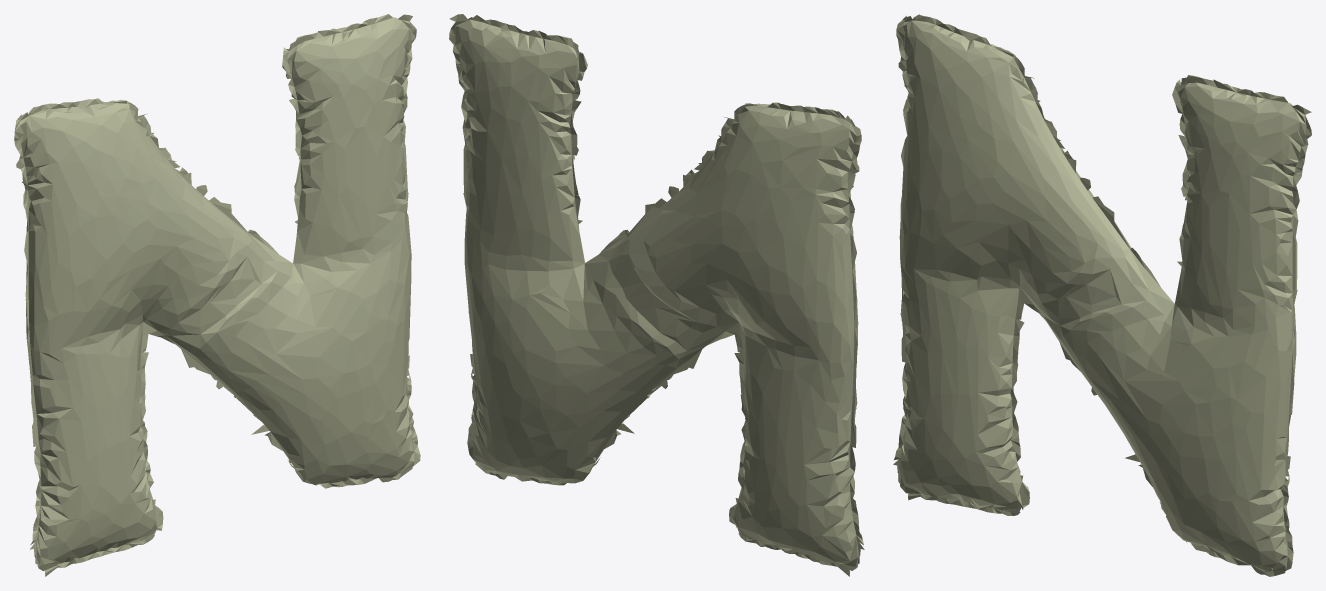
Rendered from tinker.obj.
The picture shows the model from 3 angles, left to right: view 1: azimuth 30°, elevation 25°; view 2: azimuth 150°, elevation 25°; view 3: azimuth 330°, elevation 25°; orthographic projection. The views are drawn at different scales.
Parts seen in each view (by area): view 1: obj_0; view 2: obj_0; view 3: obj_0.
Boxes of the visible parts, left/top/right/bottom form: obj_0: left=14, top=14, right=420, bottom=576; obj_0: left=449, top=14, right=864, bottom=576; obj_0: left=893, top=14, right=1311, bottom=576.
Bounding box in the file's own units: 13.13 × 14.65 × 2.33.
